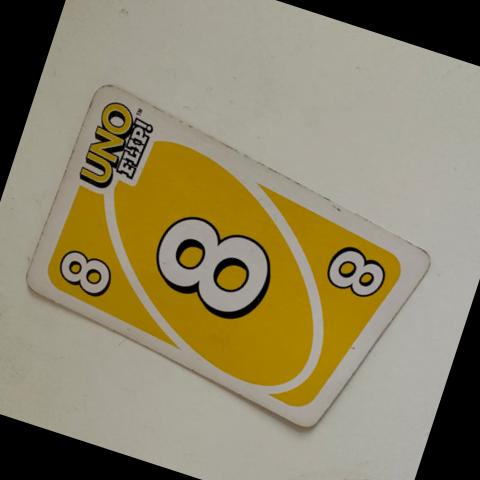lyellow-8: (40, 230, 132, 309)
